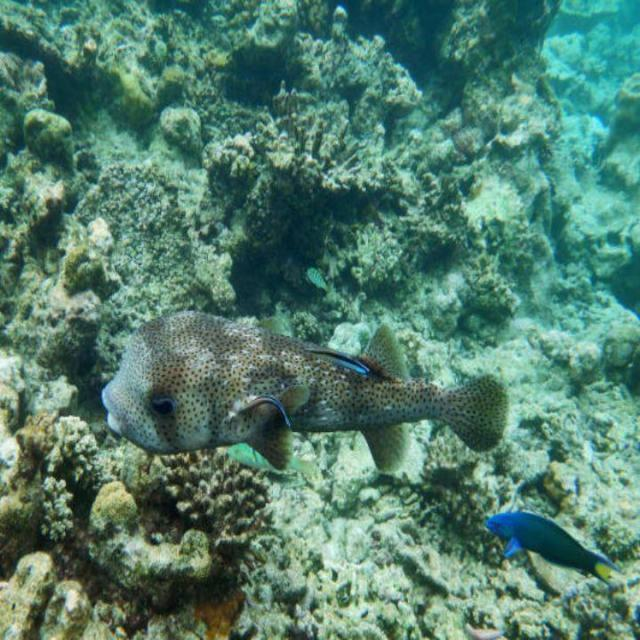Dead Coral: (11, 14, 580, 313), (17, 424, 282, 640)
